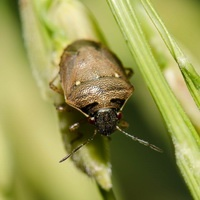insect: (49, 40, 133, 135)
